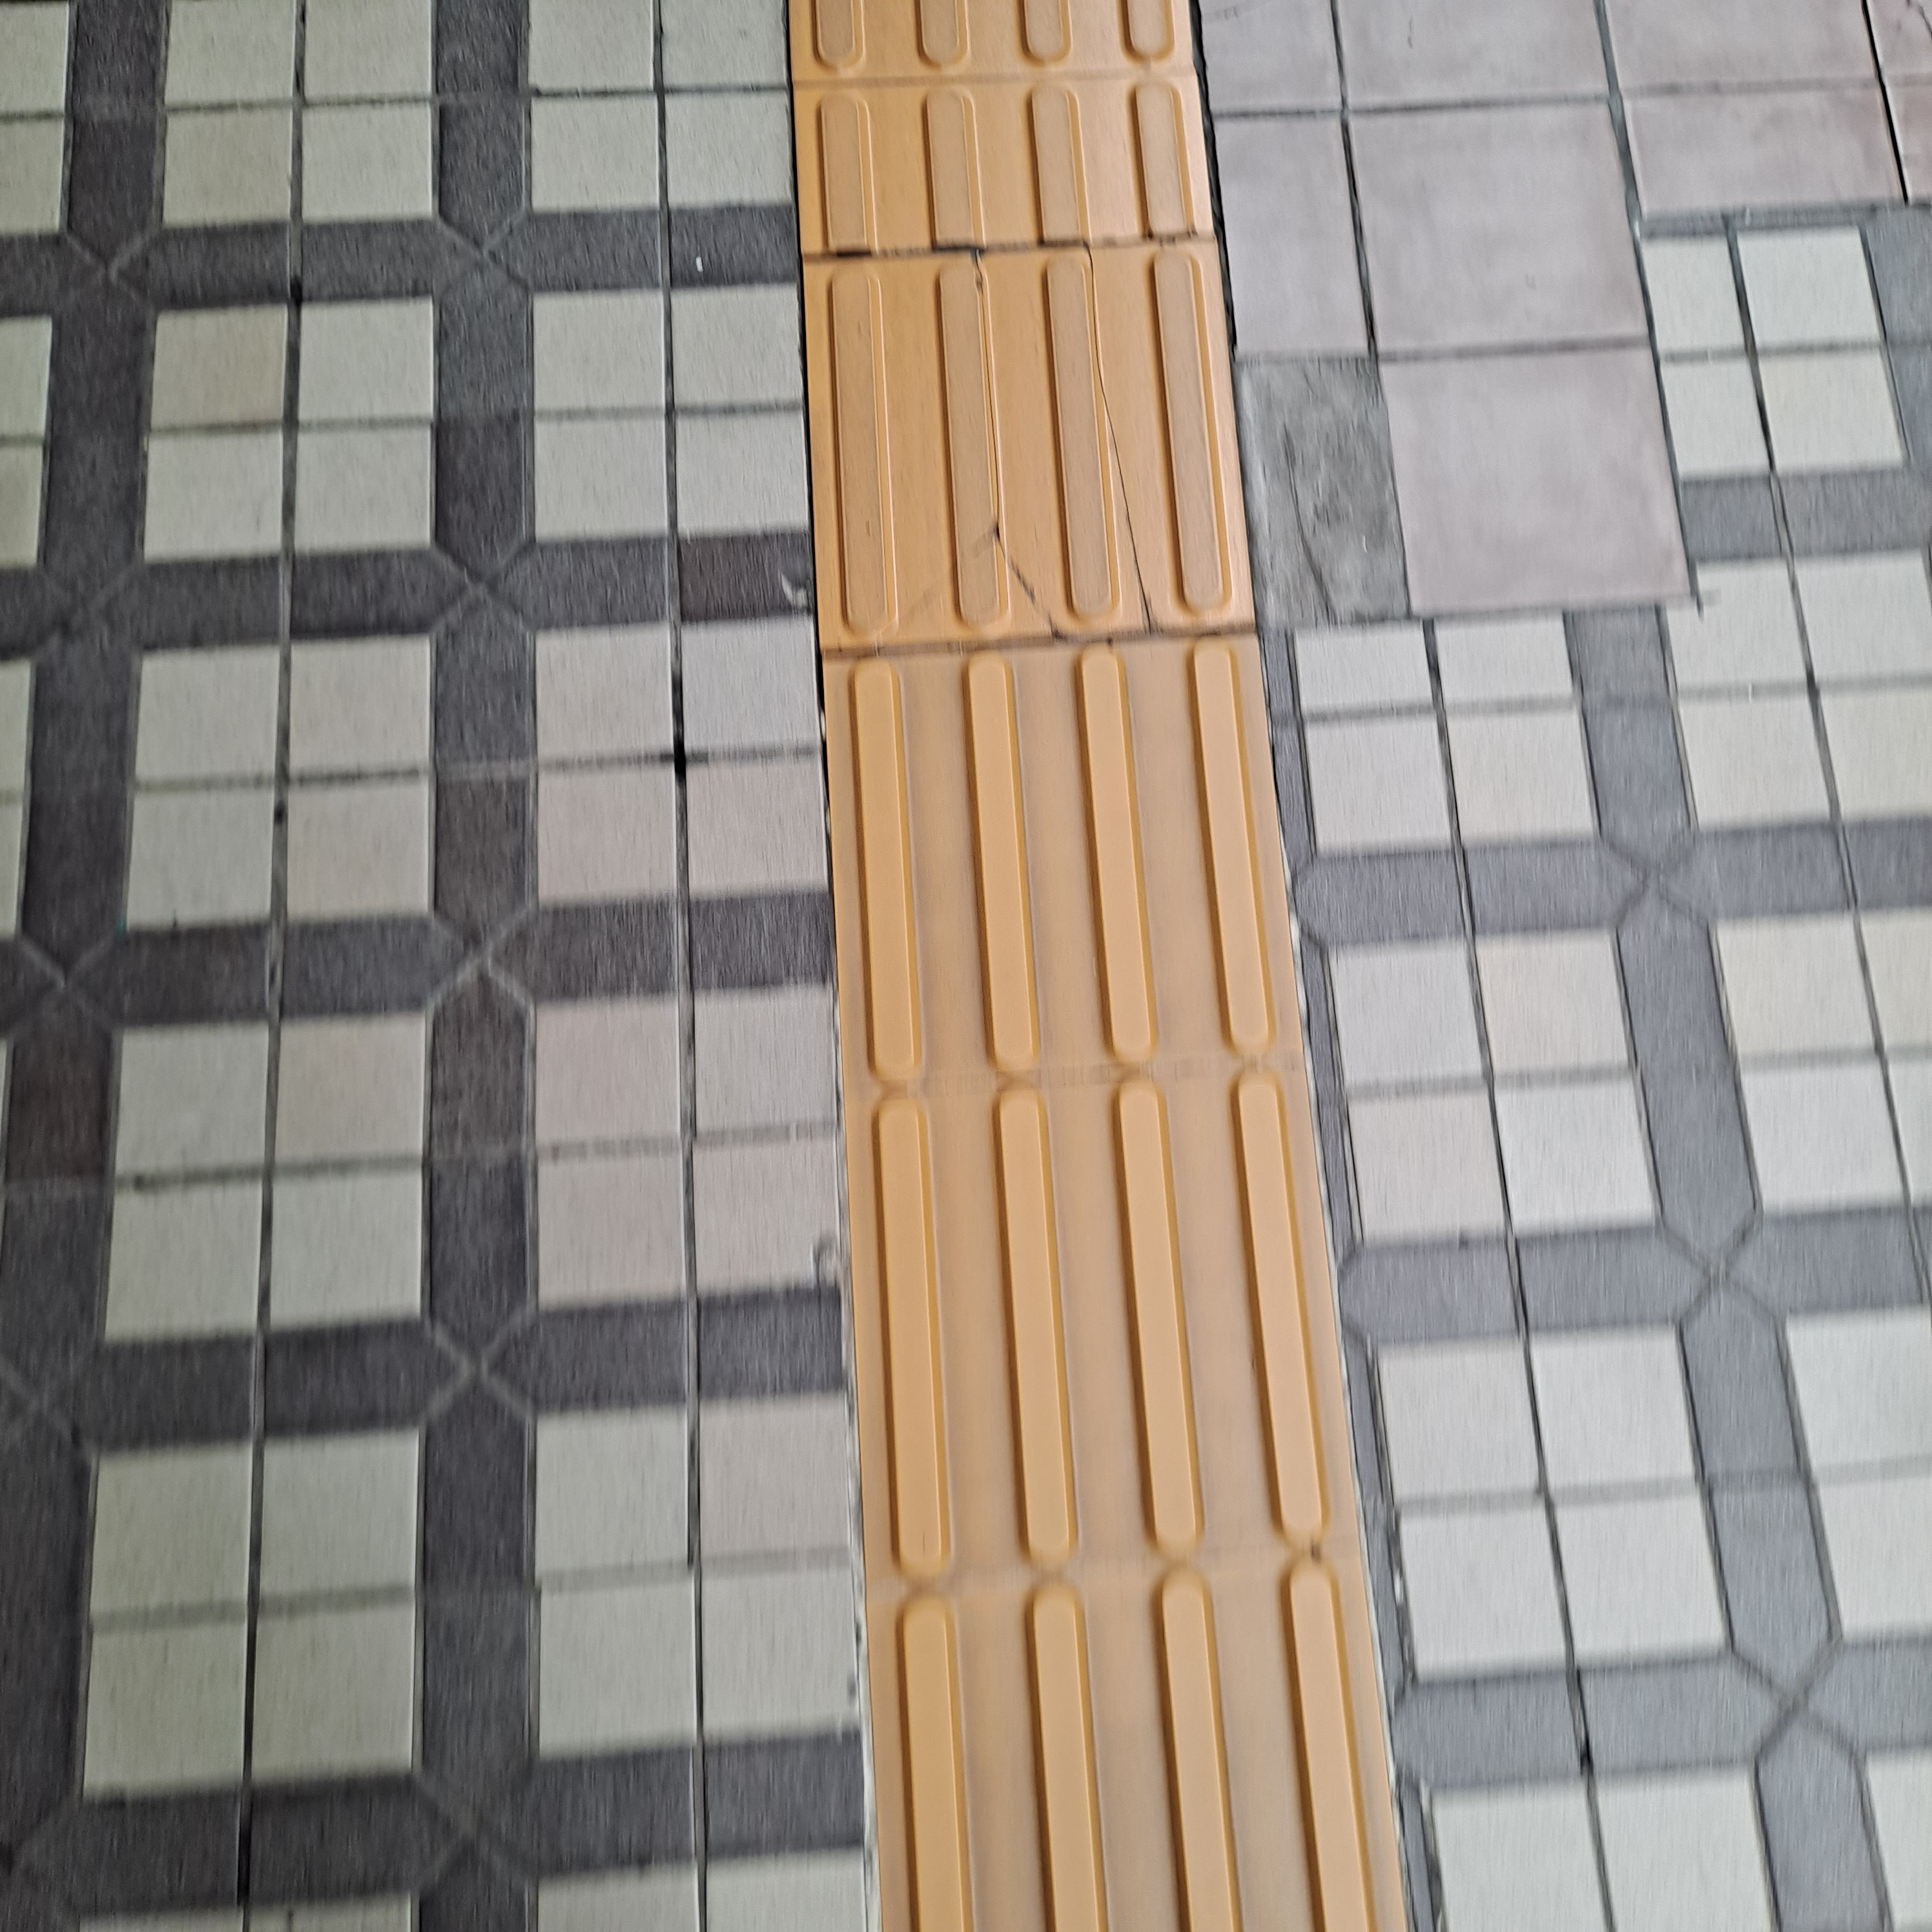guideBlock: (835, 625, 1284, 1166), (860, 1088, 1355, 1534), (855, 1594, 1387, 1932), (814, 278, 1210, 662), (798, 18, 1171, 278)
